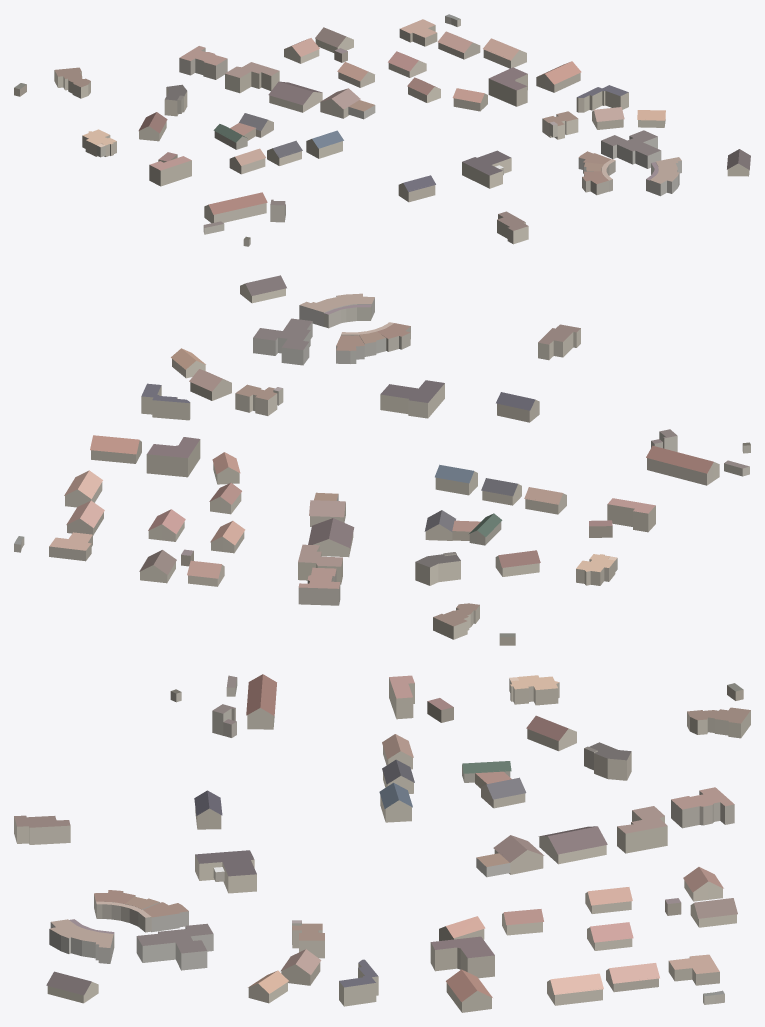
The picture shows the model from 3 angles, top to bottom: view 1: azimuth 30°, elevation 25°; view 2: azimuth 150°, elevation 25°; view 3: azimuth 270°, elevation 25°; orthographic projection. The views are drawn at different scales.
Visible parts, largest first — view 1: tuile; view 2: tuile; view 3: tuile.
Part boxes in pixels (x1,y1,x2,y2): tuile: [14, 14, 750, 246]; tuile: [14, 275, 750, 645]; tuile: [14, 674, 750, 1012].
Bounding box in the file's own units: 259 × 24.59 × 259.
